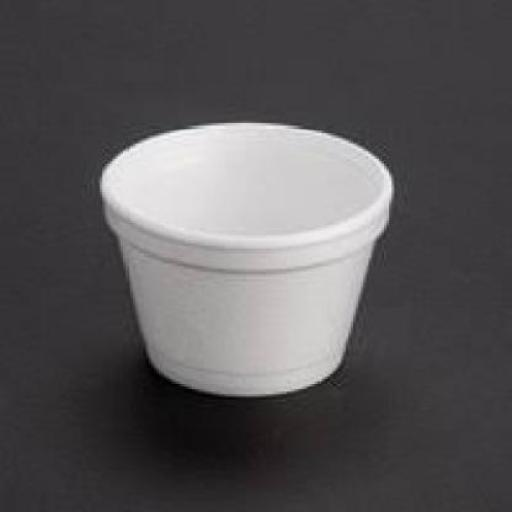paper: (94, 118, 392, 392)
